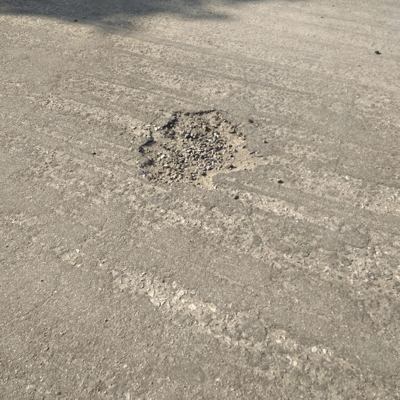pothole: (136, 107, 270, 193)
